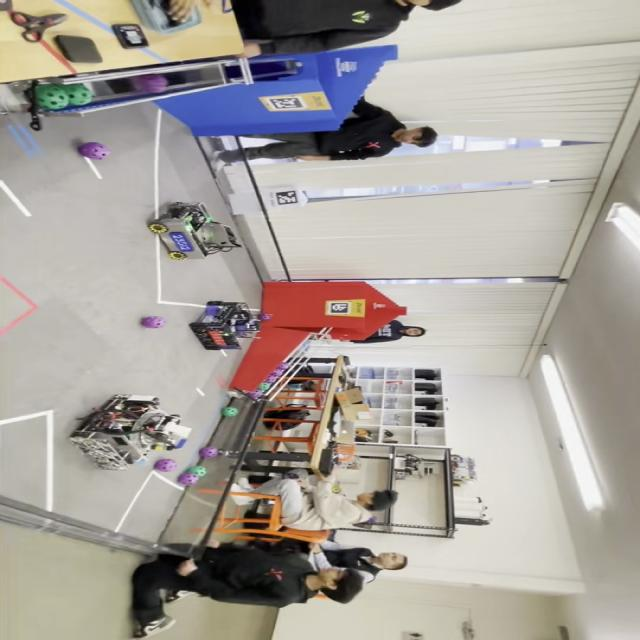artifact_green: (35, 84, 68, 109), (63, 84, 93, 105), (185, 466, 207, 477), (147, 223, 168, 233), (222, 407, 239, 417), (169, 252, 187, 259), (247, 390, 261, 399), (258, 382, 271, 391), (266, 374, 278, 383), (332, 486, 341, 493)
artifact_purple: (132, 74, 168, 93), (79, 142, 110, 159), (140, 316, 165, 328), (155, 459, 177, 472), (178, 474, 200, 485), (200, 447, 219, 457), (247, 391, 263, 399), (235, 324, 248, 332), (258, 314, 272, 321), (266, 375, 278, 383), (274, 367, 286, 375), (285, 472, 298, 479), (277, 363, 289, 370), (367, 517, 378, 524)
